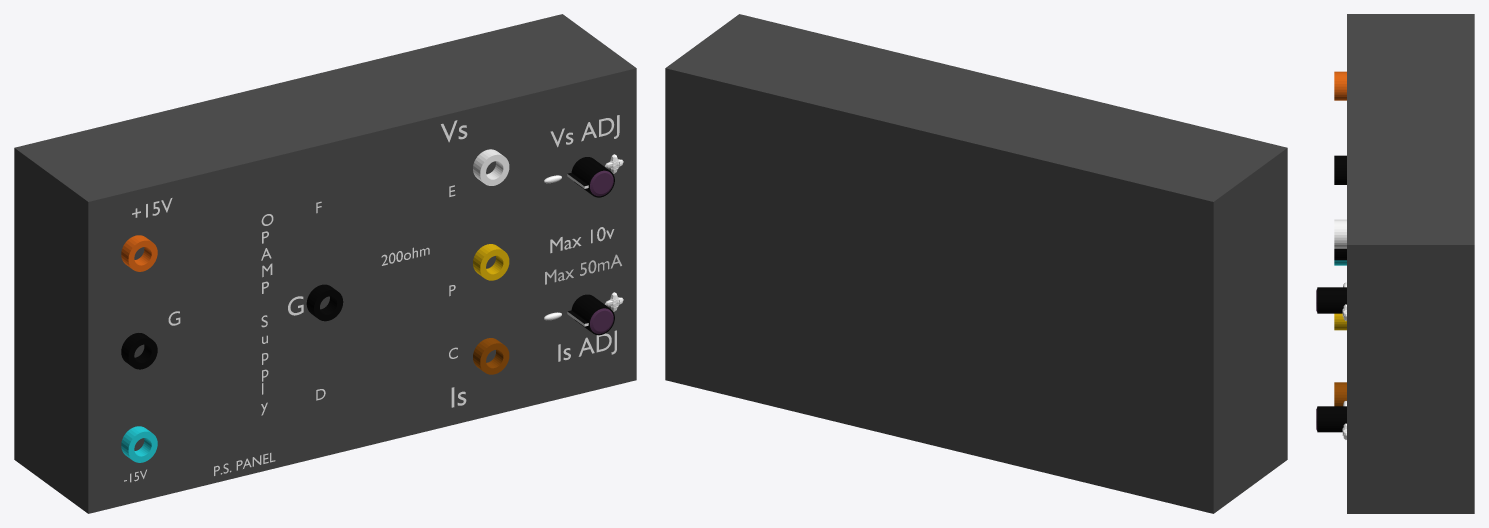
File: PowerSupply.fbx
3 renders of one model, left to right at view 1: azimuth 30°, elevation 25°; view 2: azimuth 150°, elevation 25°; view 3: azimuth 270°, elevation 25°, orthographic. The views are drawn at different scales.
Visible parts, largest first — view 1: Cube, Cylinder, Cylinder.015, Cylinder.016, Cylinder.014, Cylinder.017, Cylinder.018, Cylinder.019, Cylinder.003, Cylinder.021; view 2: Cube; view 3: Cube, Cylinder.021, Cylinder.003, Cylinder, Cylinder.014, Cylinder.016, Cylinder.018, Cylinder.017.
Part boxes in pixels (x1,y1,x2,y2): Cube: (14, 14, 636, 513); Cylinder: (121, 235, 157, 271); Cylinder.015: (121, 426, 157, 462); Cylinder.016: (473, 149, 509, 185); Cylinder.014: (121, 333, 157, 369); Cylinder.017: (473, 244, 509, 280); Cylinder.018: (473, 338, 509, 374); Cylinder.019: (306, 284, 343, 321); Cylinder.003: (567, 294, 614, 335); Cylinder.021: (567, 157, 614, 197); Cube: (665, 14, 1287, 513); Cube: (1347, 14, 1474, 513); Cylinder.021: (1317, 287, 1346, 313); Cylinder.003: (1317, 406, 1346, 432); Cylinder: (1334, 71, 1346, 100); Cylinder.014: (1334, 155, 1346, 184); Cylinder.016: (1334, 219, 1346, 248); Cylinder.018: (1334, 382, 1346, 406); Cylinder.017: (1334, 313, 1346, 330).
Bounding box in the file's own units: 455 × 247 × 132.
